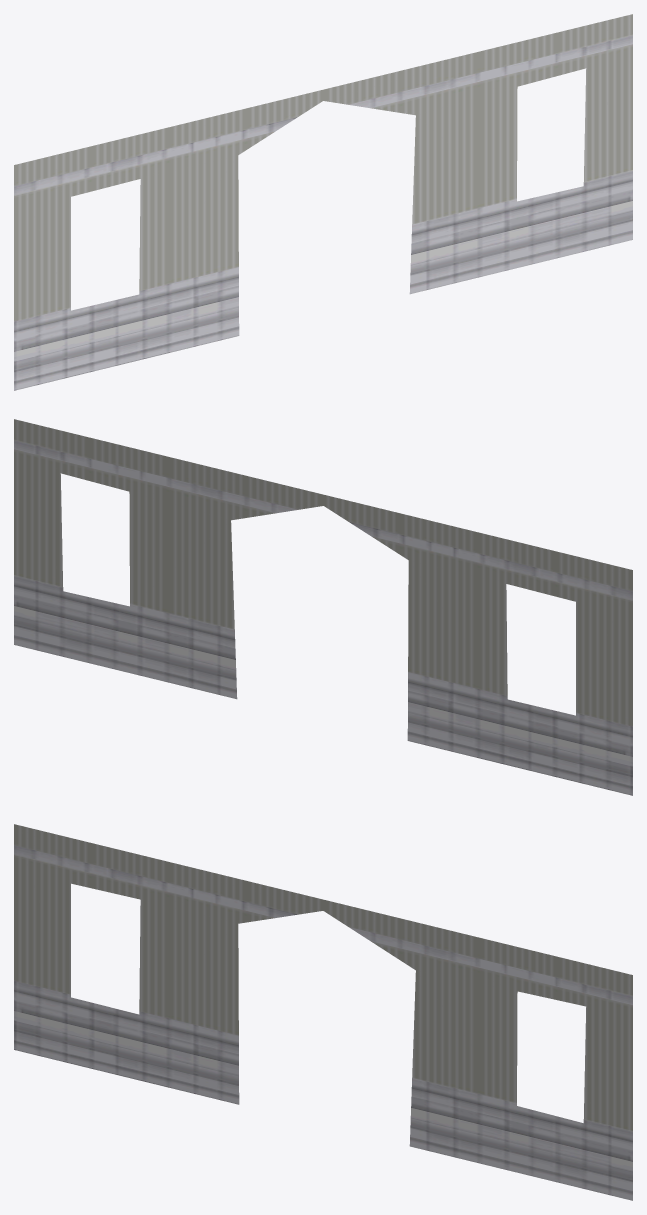
Rendered from W_AI3_fOf [GraueStreifen]_2340.glb.
The picture shows the model from 3 angles, top to bottom: view 1: azimuth 30°, elevation 25°; view 2: azimuth 150°, elevation 25°; view 3: azimuth 330°, elevation 25°; orthographic projection.
Parts seen in each view (by area): view 1: polySurfaceShape771; view 2: polySurfaceShape771; view 3: polySurfaceShape771.
Part boxes in pixels (x1,y1,x2,y2): polySurfaceShape771: (14, 14, 632, 390); polySurfaceShape771: (14, 419, 632, 795); polySurfaceShape771: (14, 824, 632, 1200).
Size of the model in its own units: 1 by 0.3486 by 1.52e-08.
1 material, 1 textured.
